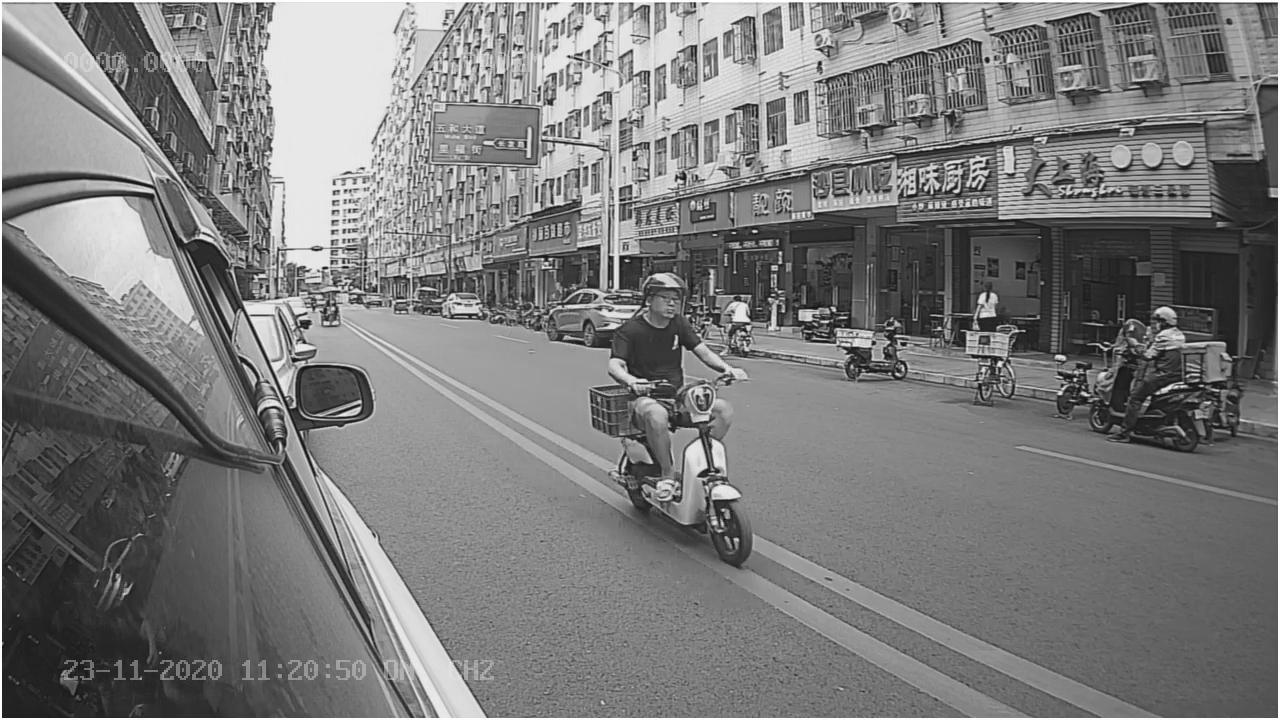person: (600, 270, 749, 380)
